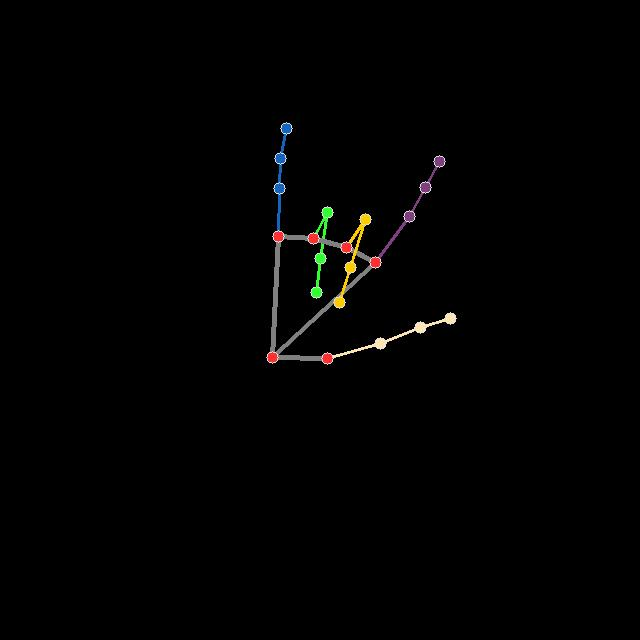spiderman: (267, 123, 457, 364)
